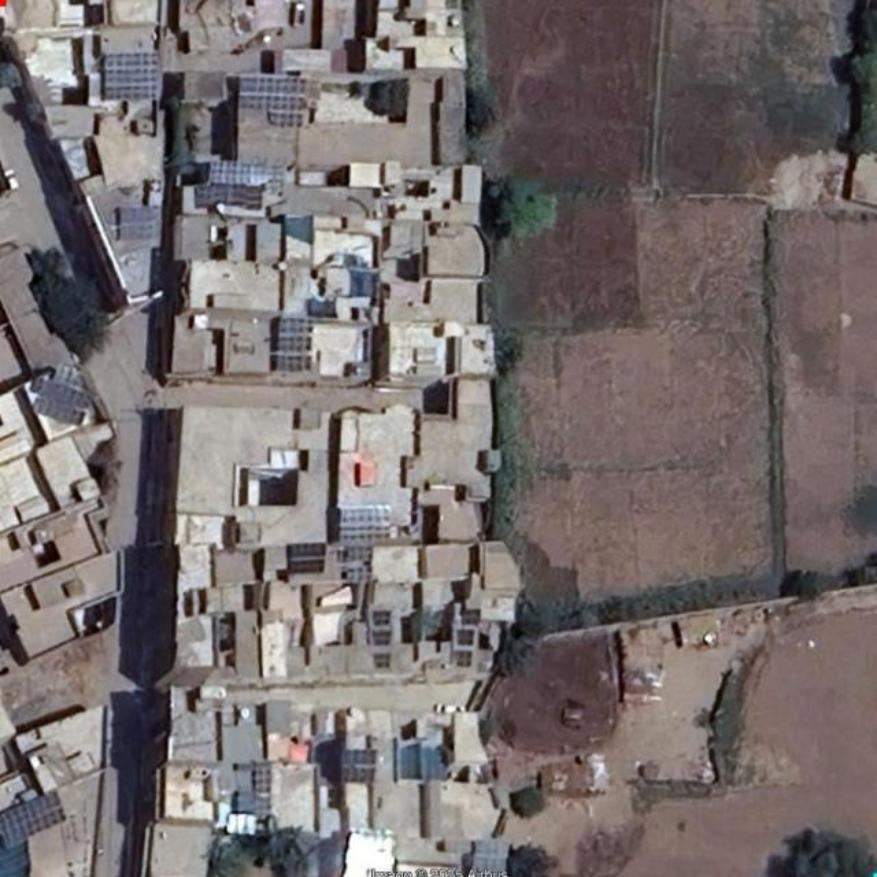Solarpanel: (0, 790, 66, 854), (208, 162, 284, 208), (241, 79, 306, 127), (103, 53, 161, 99), (276, 315, 311, 371), (340, 510, 392, 544), (40, 379, 97, 410), (36, 397, 86, 425), (122, 206, 164, 238), (338, 751, 376, 784), (472, 842, 510, 871), (344, 545, 372, 562), (347, 568, 375, 584), (255, 766, 272, 791)
